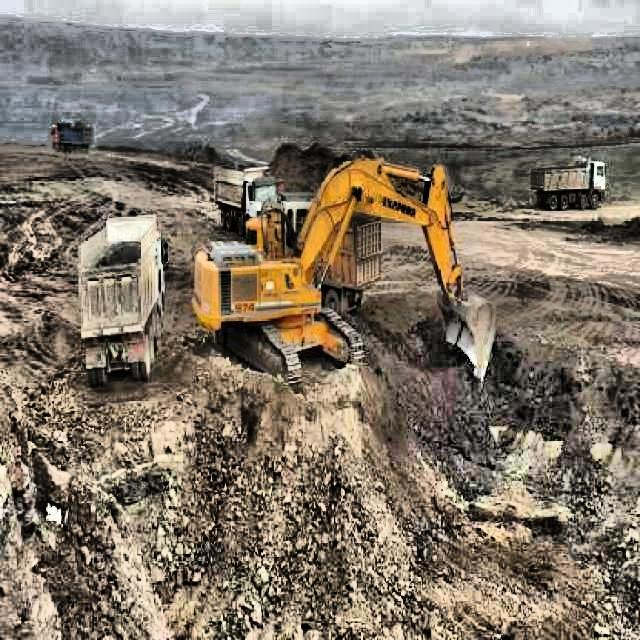dump_truck: (75, 212, 171, 391), (322, 211, 380, 315), (212, 163, 277, 237), (530, 156, 606, 212), (51, 122, 94, 156)
excavator: (189, 149, 497, 394)
